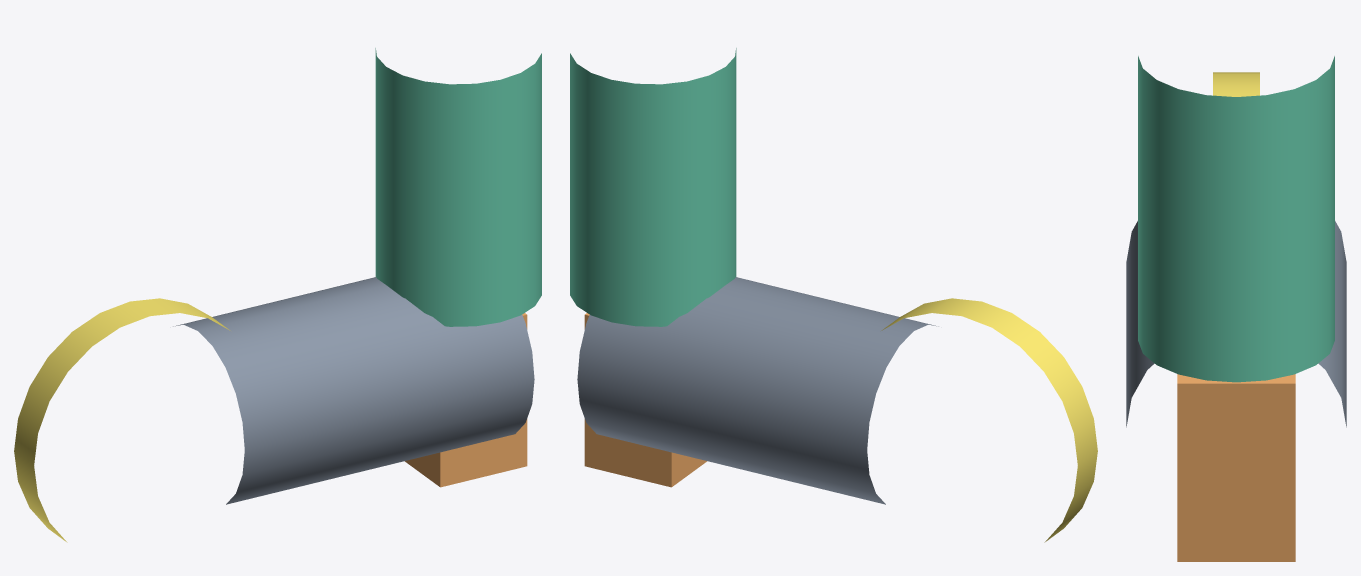
The model's file is reciprocating_pump_air_vessel.glb.
3 renders of one model, left to right at view 1: azimuth 30°, elevation 25°; view 2: azimuth 150°, elevation 25°; view 3: azimuth 270°, elevation 25°, orthographic. The views are drawn at different scales.
Visible parts, largest first — view 1: PumpCylinderBarrelBody, DomedDeliveryAirVessel, CrankConnectingRodDrive, SuctionDeliveryCheckValves; view 2: PumpCylinderBarrelBody, DomedDeliveryAirVessel, CrankConnectingRodDrive, SuctionDeliveryCheckValves; view 3: DomedDeliveryAirVessel, SuctionDeliveryCheckValves, PumpCylinderBarrelBody, CrankConnectingRodDrive.
Boxes of the visible parts, bbox=[...] form: PumpCylinderBarrelBody: bbox=[173, 277, 534, 504]; DomedDeliveryAirVessel: bbox=[375, 48, 541, 326]; CrankConnectingRodDrive: bbox=[14, 298, 230, 542]; SuctionDeliveryCheckValves: bbox=[405, 313, 527, 487]; PumpCylinderBarrelBody: bbox=[577, 277, 938, 504]; DomedDeliveryAirVessel: bbox=[570, 48, 736, 326]; CrankConnectingRodDrive: bbox=[881, 298, 1097, 542]; SuctionDeliveryCheckValves: bbox=[584, 313, 706, 487]; DomedDeliveryAirVessel: bbox=[1138, 56, 1334, 382]; SuctionDeliveryCheckValves: bbox=[1177, 374, 1295, 561]; PumpCylinderBarrelBody: bbox=[1126, 221, 1346, 427]; CrankConnectingRodDrive: bbox=[1213, 72, 1259, 96].
Size of the model in its own units: 1.75 by 1.4 by 0.56.
